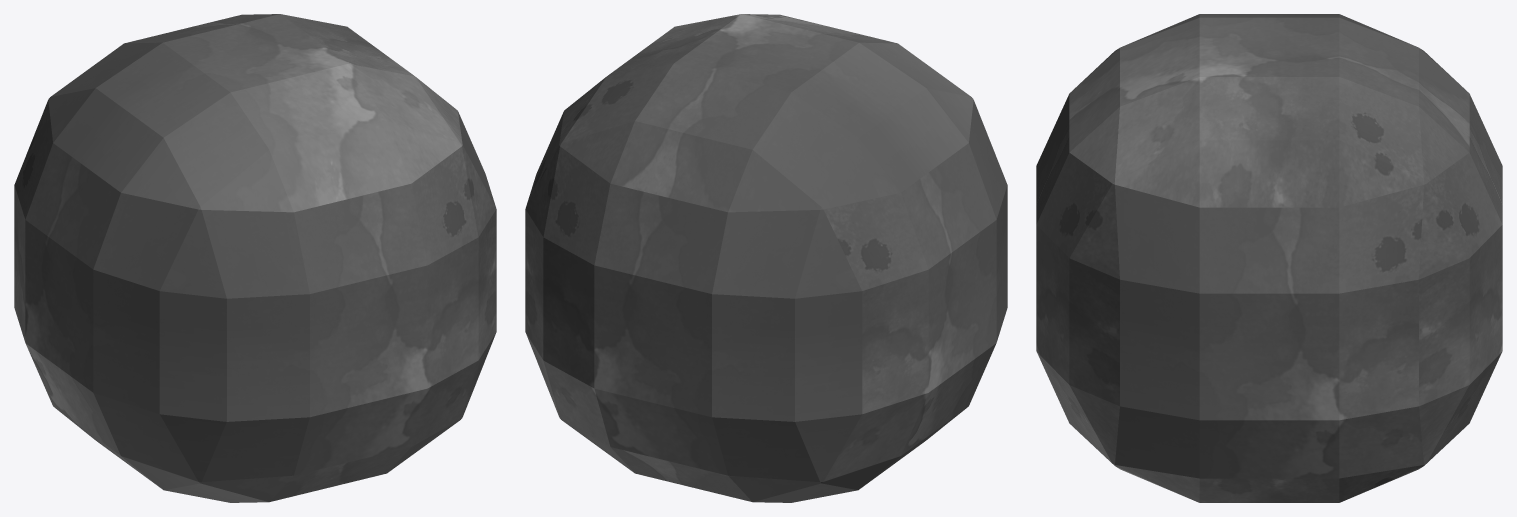
Rendered from Tile1_21.obj.
The picture shows the model from 3 angles, left to right: view 1: azimuth 30°, elevation 25°; view 2: azimuth 150°, elevation 25°; view 3: azimuth 270°, elevation 25°; orthographic projection. The views are drawn at different scales.
Visible parts, largest first — view 1: Cube; view 2: Cube; view 3: Cube.
Part boxes in pixels (box(x1,y1,x2,y2)): Cube: box(14, 14, 496, 502); Cube: box(525, 14, 1007, 502); Cube: box(1036, 14, 1502, 502).
Bounding box in the file's own units: 2 × 2 × 2.
Materials: 1 (1 with a texture image).
